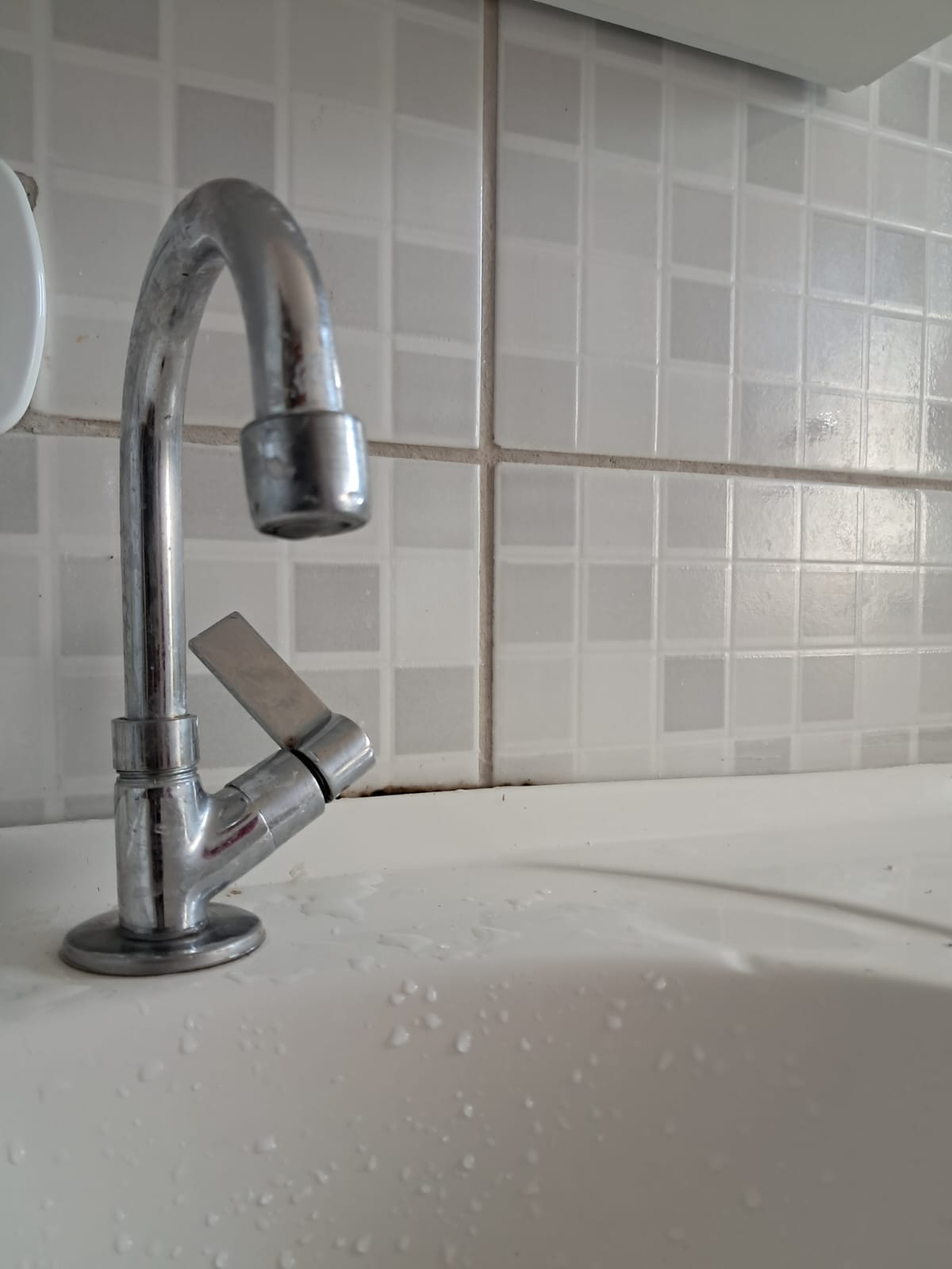torneira_fechada: (49, 142, 392, 1013)
